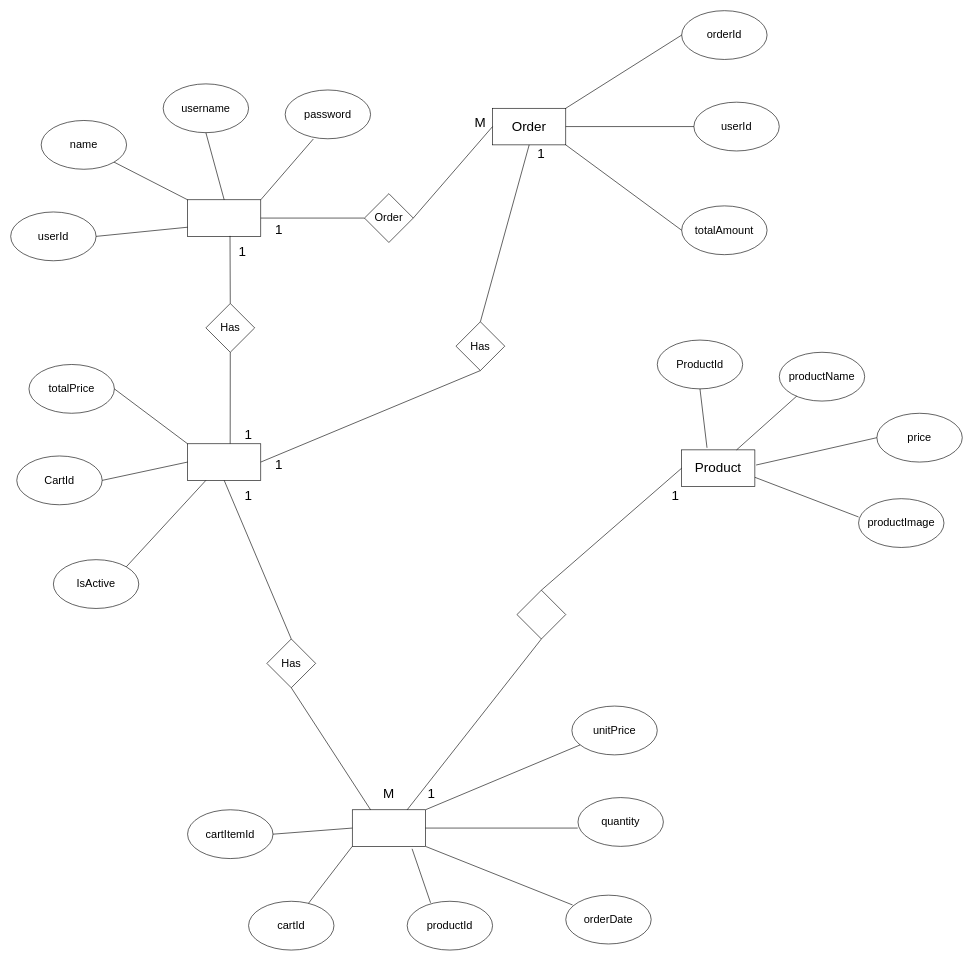
Some shapes in this 973 by 961 pixel diagram are drawn without their labels. Here are the shapes that lost their labels. From the top down, the centre of each, then its label:
At pixel 224 217: "User".
At pixel 224 461: "Cart".
At pixel 541 614: "Add".
At pixel 388 827: "cartItem".
